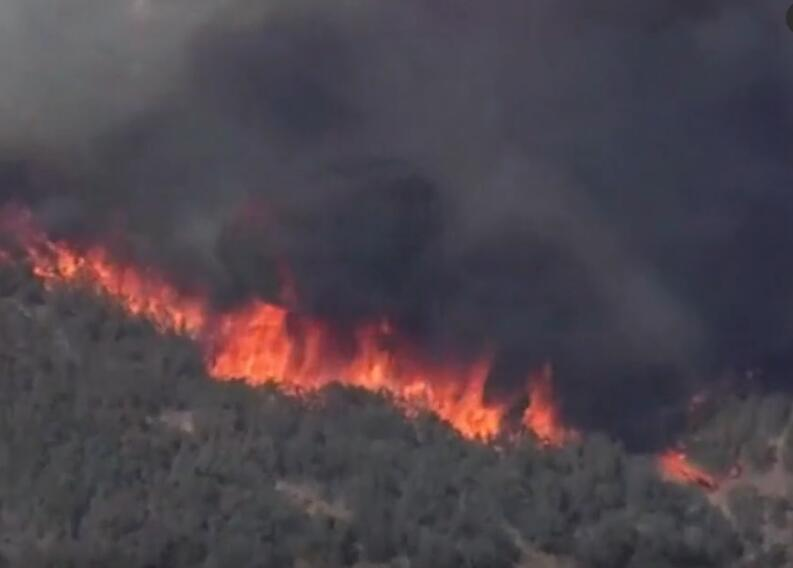fire: (209, 297, 573, 451), (1, 208, 211, 334), (650, 442, 707, 487)
yanwu: (2, 0, 790, 425)
